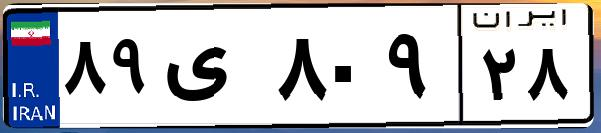0: (330, 28, 385, 110)
2: (475, 38, 525, 113)
8: (270, 28, 330, 110), (57, 26, 110, 100), (525, 38, 570, 115)
9: (385, 28, 445, 110), (110, 28, 158, 98)
ی: (158, 20, 270, 120)
